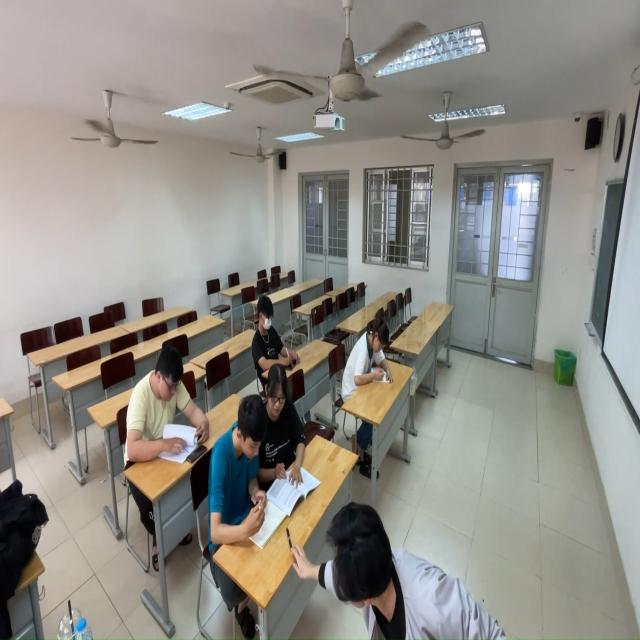read: (209, 357, 271, 560), (114, 343, 199, 472), (259, 355, 323, 491), (340, 316, 400, 403), (247, 295, 300, 375)
